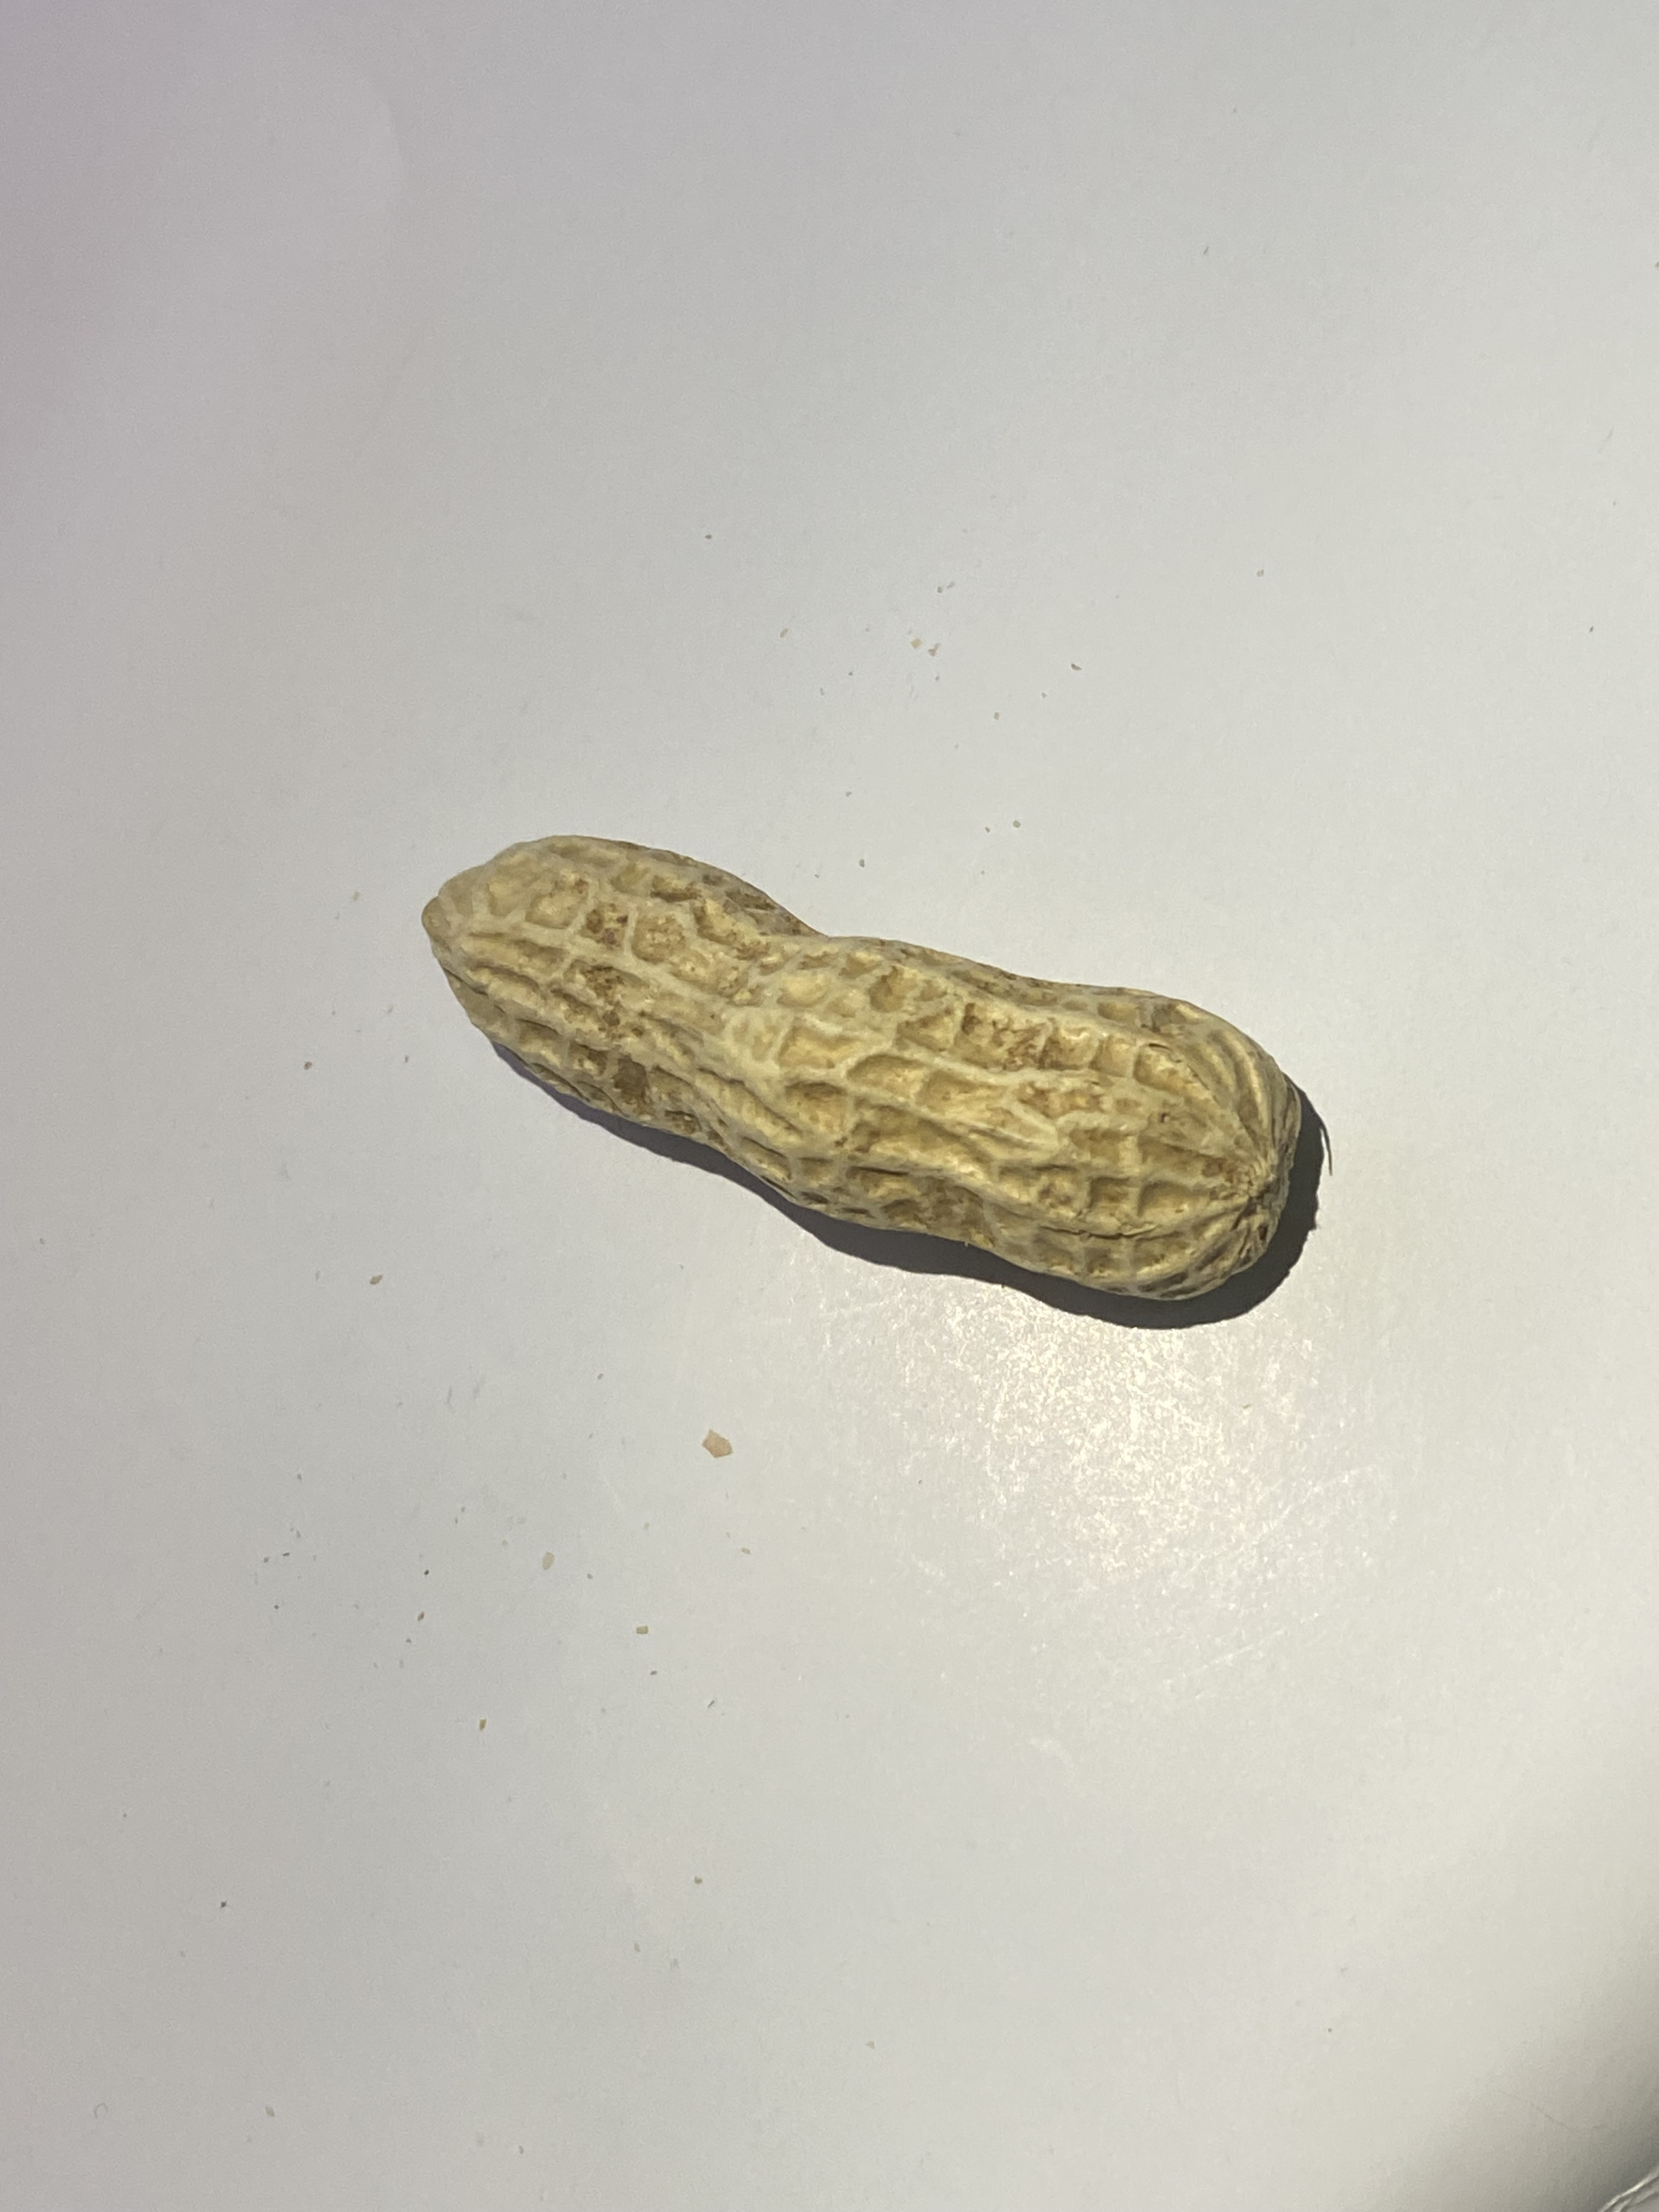kacang3: (347, 819, 1410, 1312)
